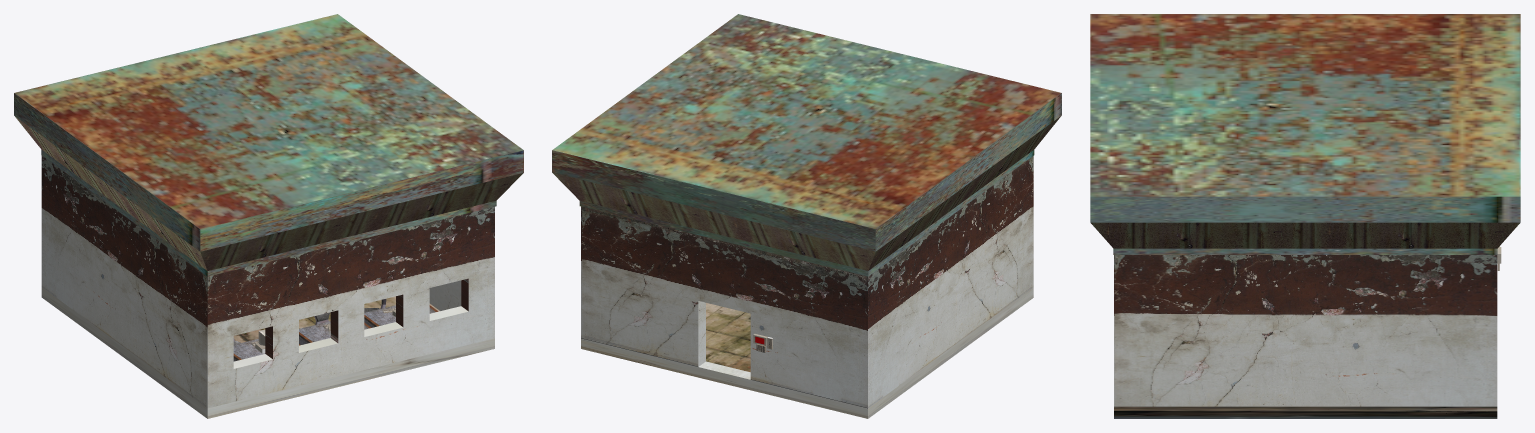
The model's file is SecRoom.fbx.
3 renders of one model, left to right at view 1: azimuth 30°, elevation 25°; view 2: azimuth 150°, elevation 25°; view 3: azimuth 270°, elevation 25°, orthographic. The views are drawn at different scales.
Parts seen in each view (by area): view 1: Sec_room_Roof, Sec_room, Cube.011, Cube.012, Table.002; view 2: Sec_room_Roof, Sec_room; view 3: Sec_room_Roof, Sec_room.
Boxes of the visible parts, x1,y1,x2,y2 form: Sec_room_Roof: (14, 14, 523, 276); Sec_room: (41, 155, 494, 418); Cube.011: (299, 312, 371, 344); Cube.012: (364, 299, 438, 327); Table.002: (233, 329, 300, 361); Sec_room_Roof: (552, 14, 1061, 276); Sec_room: (581, 156, 1033, 418); Sec_room_Roof: (1090, 14, 1520, 254); Sec_room: (1114, 255, 1497, 418).
Size of the model in its own units: 1161 by 691 by 1157.
